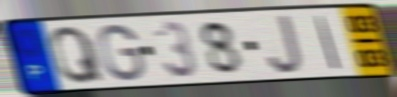3: (152, 19, 199, 81)
8: (200, 19, 246, 76)
G: (97, 22, 147, 83)
I: (314, 14, 343, 71)
J: (265, 13, 304, 76)
Q: (48, 24, 107, 86)
